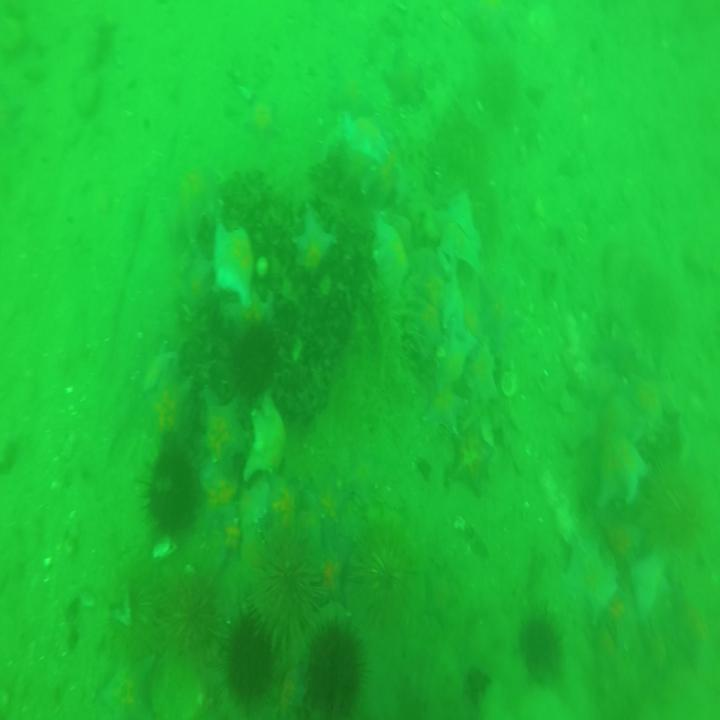echinus: (244, 522, 323, 645), (108, 569, 174, 668), (304, 624, 369, 720), (144, 435, 204, 536), (358, 523, 419, 615), (172, 573, 225, 658), (518, 598, 568, 675), (224, 609, 269, 691)
holothurian: (365, 273, 413, 381)
starfish: (556, 528, 614, 618), (162, 154, 221, 241), (186, 392, 246, 475), (206, 215, 259, 307), (595, 428, 647, 509), (366, 214, 418, 294), (423, 316, 479, 390), (435, 182, 483, 268), (322, 103, 382, 171), (422, 261, 474, 338), (461, 327, 501, 419), (146, 370, 193, 447), (210, 499, 256, 577), (246, 398, 290, 478), (630, 550, 674, 628), (442, 419, 486, 491), (291, 205, 332, 282), (259, 485, 303, 549), (606, 504, 640, 580), (599, 583, 636, 649)
